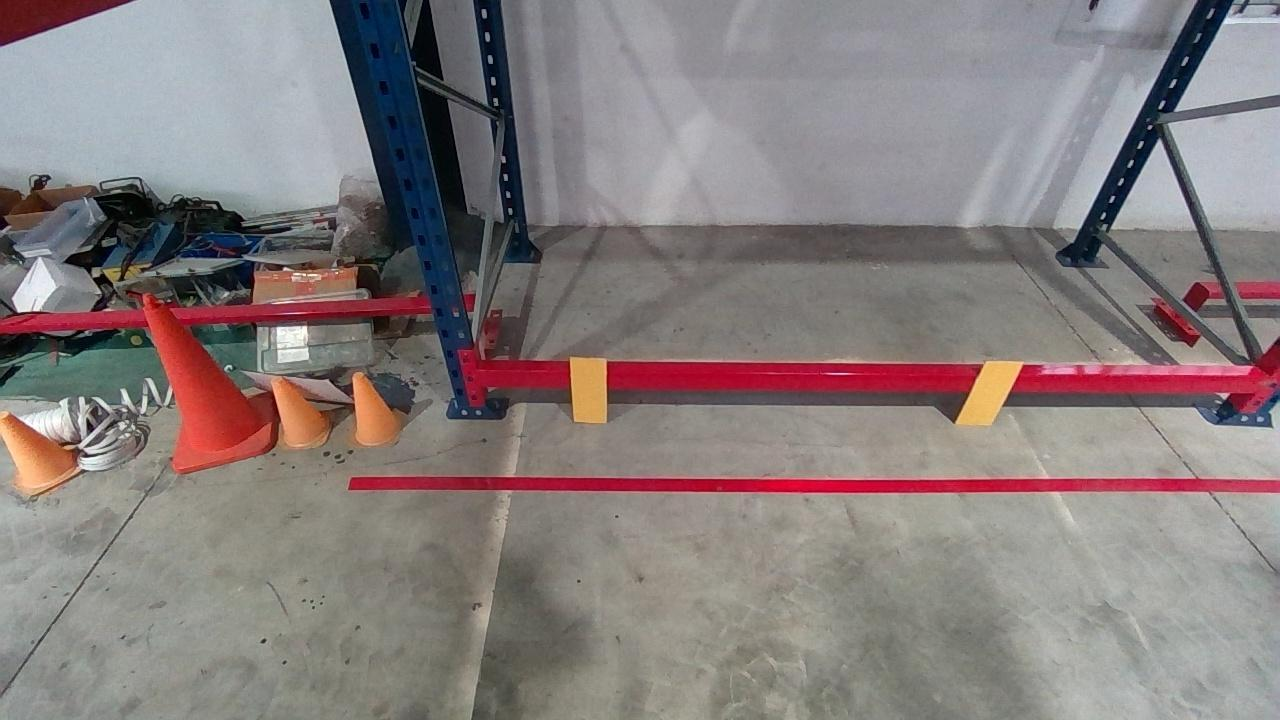h_rack: (482, 371, 1266, 396)
orange_strip: (953, 360, 1028, 425), (569, 358, 609, 422)
red_line: (345, 473, 1276, 493)
